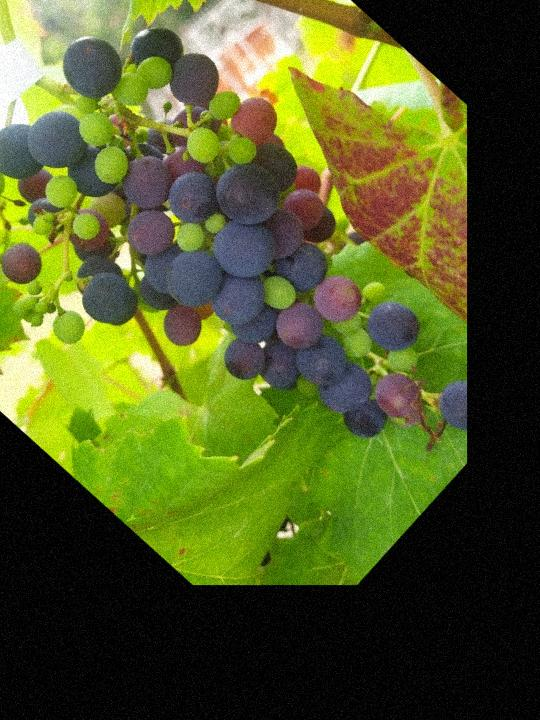grape: (0, 0, 540, 602)
